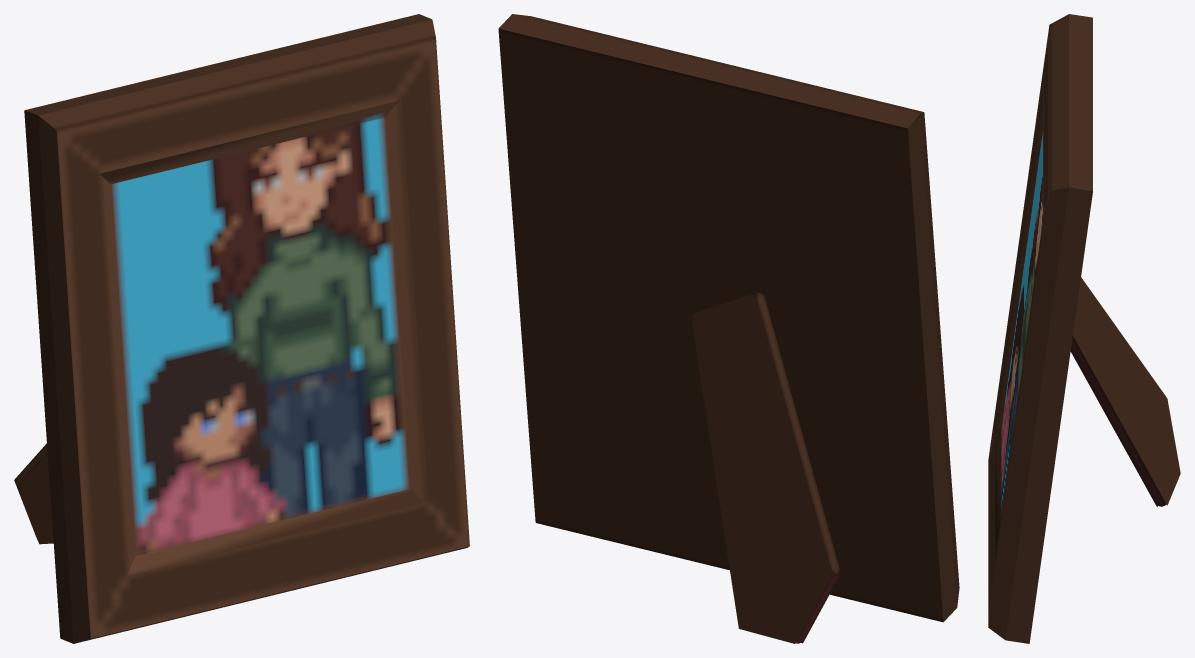
The model's file is Porta retrato.obj.
3 renders of one model, left to right at view 1: azimuth 30°, elevation 25°; view 2: azimuth 150°, elevation 25°; view 3: azimuth 270°, elevation 25°, orthographic. The views are drawn at different scales.
Visible parts, largest first — view 1: Frame_Cube.005; view 2: Frame_Cube.005; view 3: Frame_Cube.005.
Boxes of the visible parts, left/top/right/bottom form: Frame_Cube.005: left=14, top=14, right=469, bottom=643; Frame_Cube.005: left=498, top=14, right=959, bottom=643; Frame_Cube.005: left=988, top=14, right=1180, bottom=643.
Bounding box in the file's own units: 0.1804 × 0.2214 × 0.0845.
